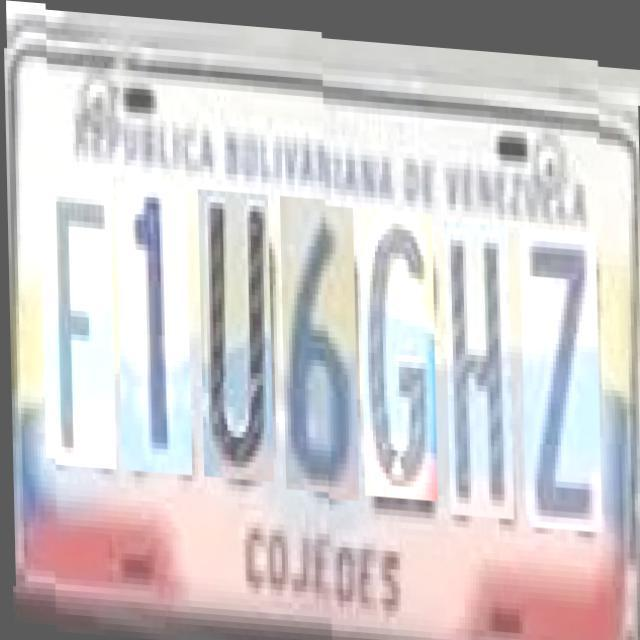1: (115, 181, 190, 472)
6: (279, 191, 357, 489)
F: (40, 176, 114, 467)
G: (358, 196, 436, 488)
H: (442, 208, 512, 504)
U: (197, 186, 272, 477)
Z: (518, 213, 600, 516)
